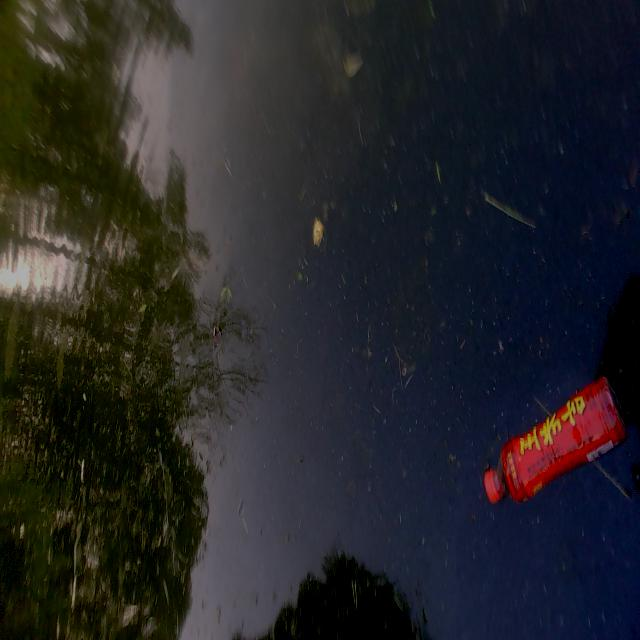bottle: (464, 353, 637, 525)
